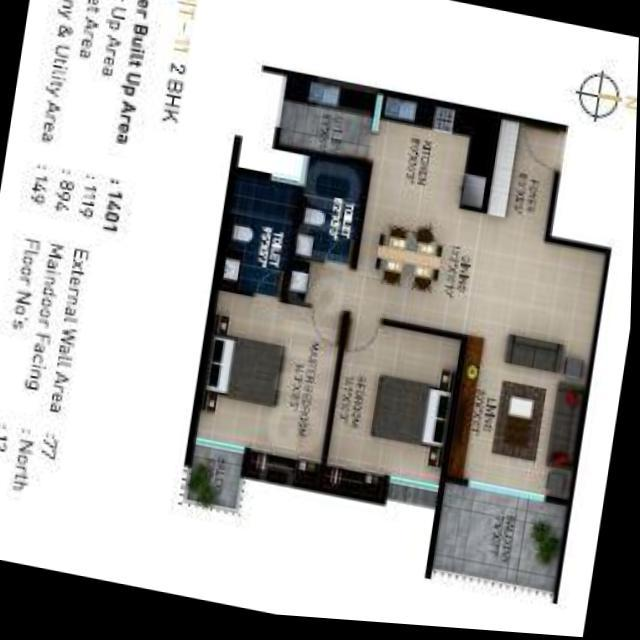Balcony-Sitout: (431, 480, 576, 595), (183, 448, 253, 518)
Bedroom: (325, 315, 463, 492)
Bedroom with Toilet: (192, 170, 353, 473)
Dining: (367, 218, 455, 301)
Enterance-Foyer: (488, 113, 571, 236)
Kitchen: (365, 90, 505, 215)
Living: (442, 335, 597, 506)
Toilet: (215, 176, 309, 309), (295, 152, 375, 274)
Utility: (272, 73, 386, 171)
